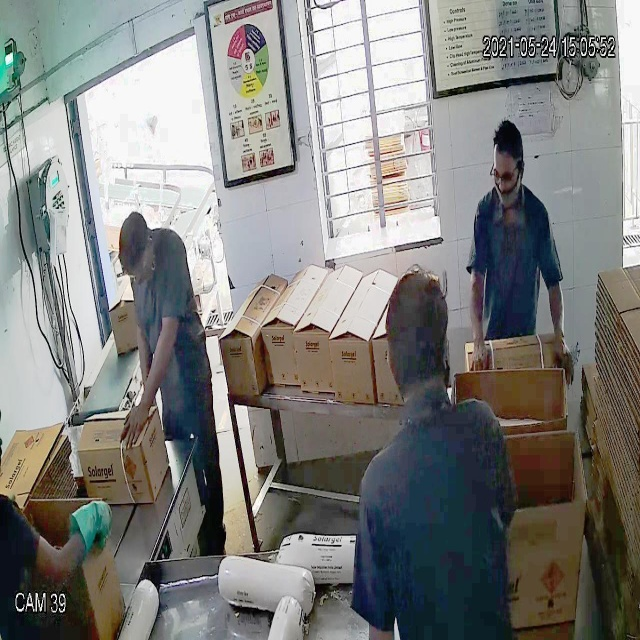Gafas: (486, 155, 528, 190)
